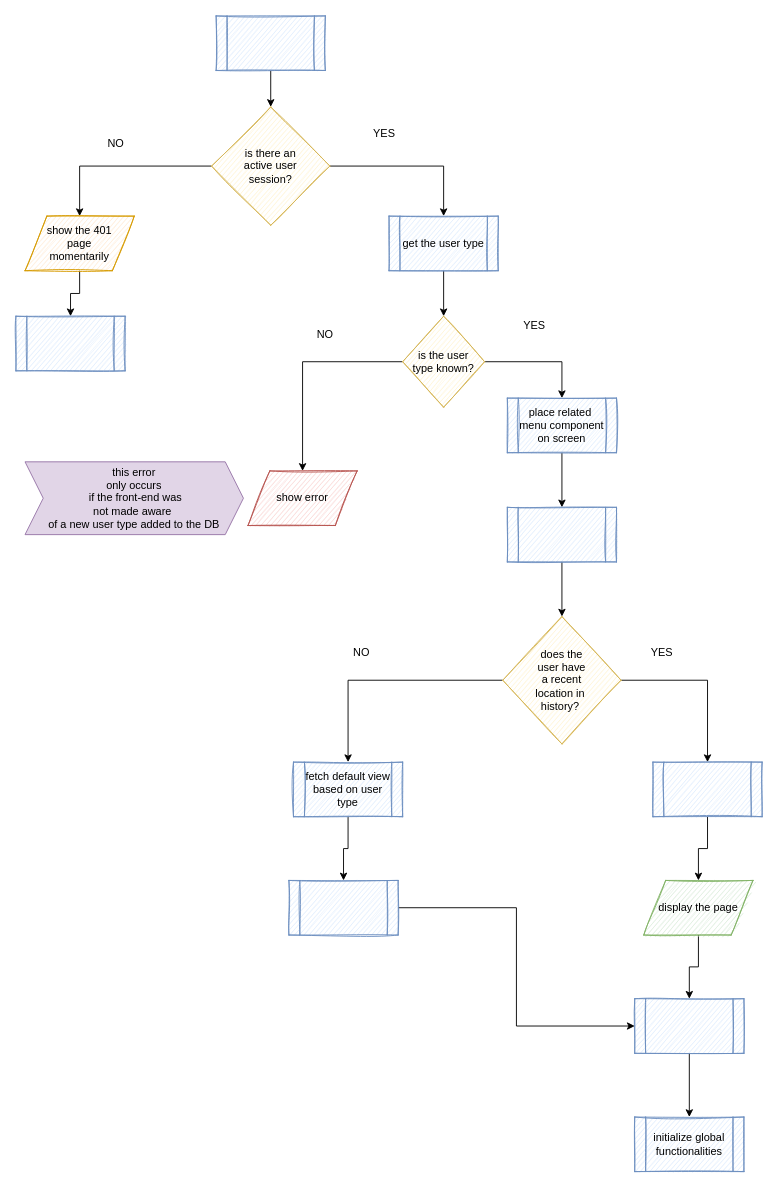
This 778x1188 diagram has some shape labels left out. The shapes that lost their labels are listed below. From the top down, each one's centre as x and y in pixels, then its label:
(270,43): import dependencies
(70,343): redirect agent to homepage
(561,534): attach menu control functionality
(707,789): retrieve the name of the last page the user viewed
(343,907): add the page name to location history
(689,1025): initialize page specific functionalities
